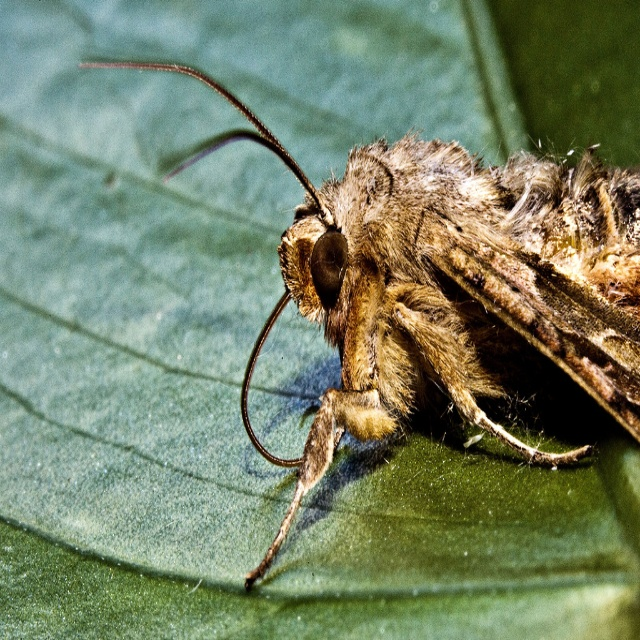Moths and butterflies: (76, 58, 640, 597)
